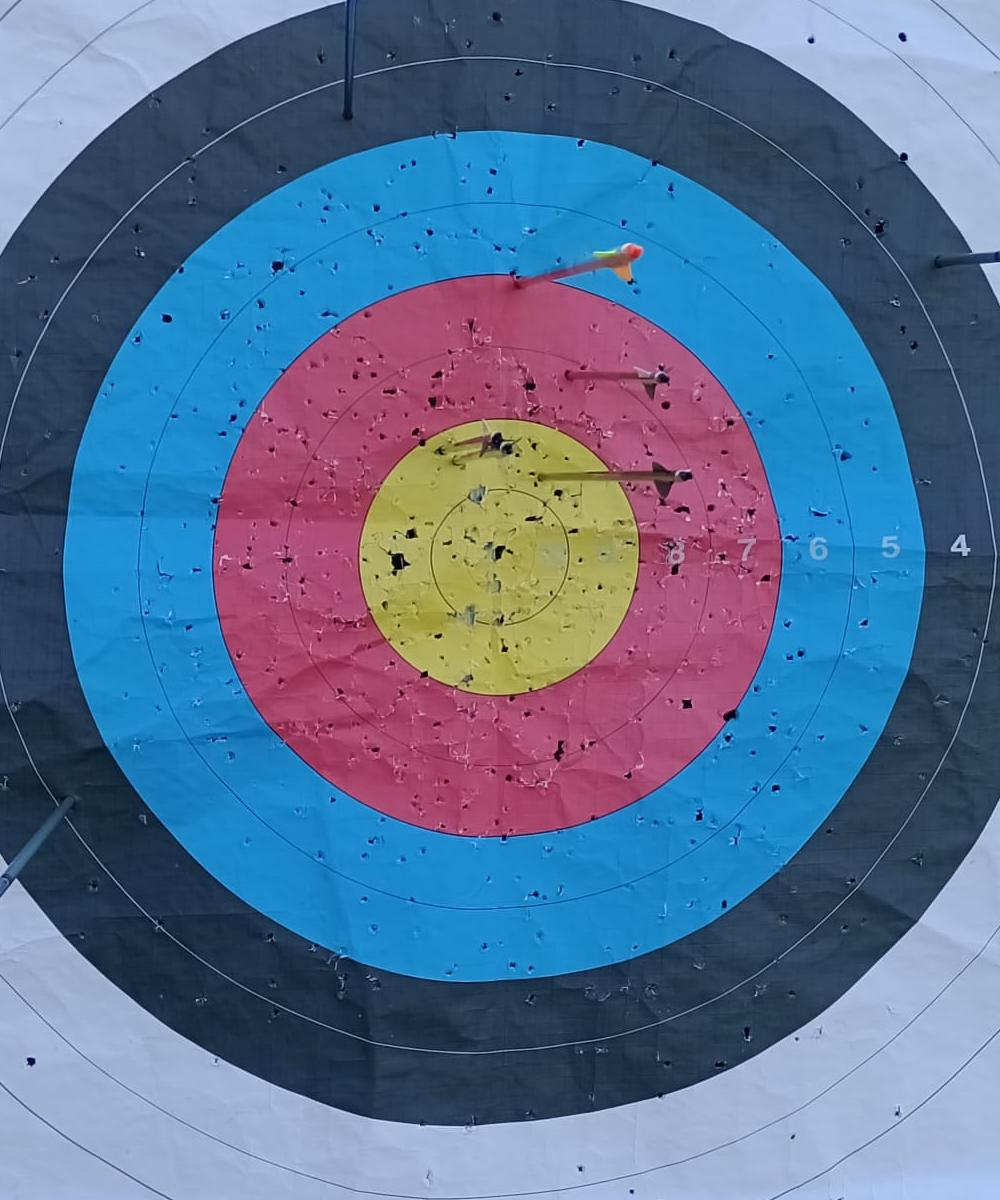10-Ring: (432, 488, 568, 625)
3-Ring: (0, 0, 1000, 1128)
4-Ring: (0, 58, 992, 1052)
5-Ring: (52, 123, 930, 990)
6-Ring: (144, 206, 852, 909)
7-Ring: (212, 274, 779, 837)
8-Ring: (286, 351, 709, 767)
9-Ring: (356, 415, 642, 700)
Arrow: (539, 447, 694, 501), (517, 243, 645, 286), (565, 363, 673, 401)
